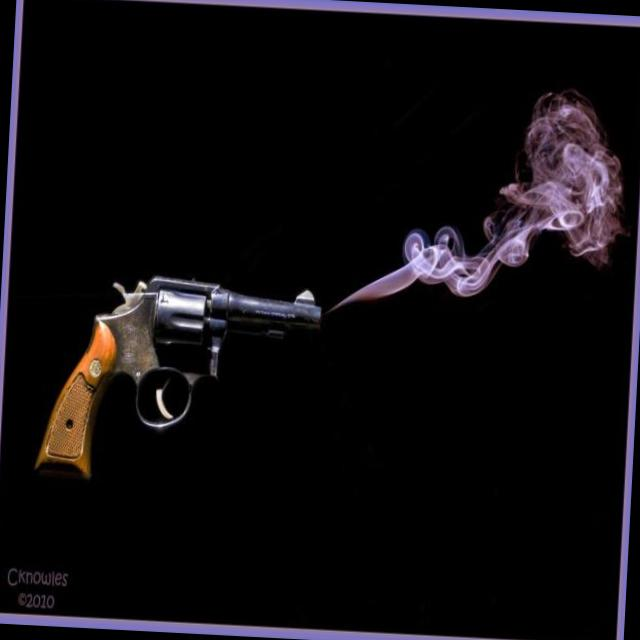Gun: (34, 276, 322, 479)
